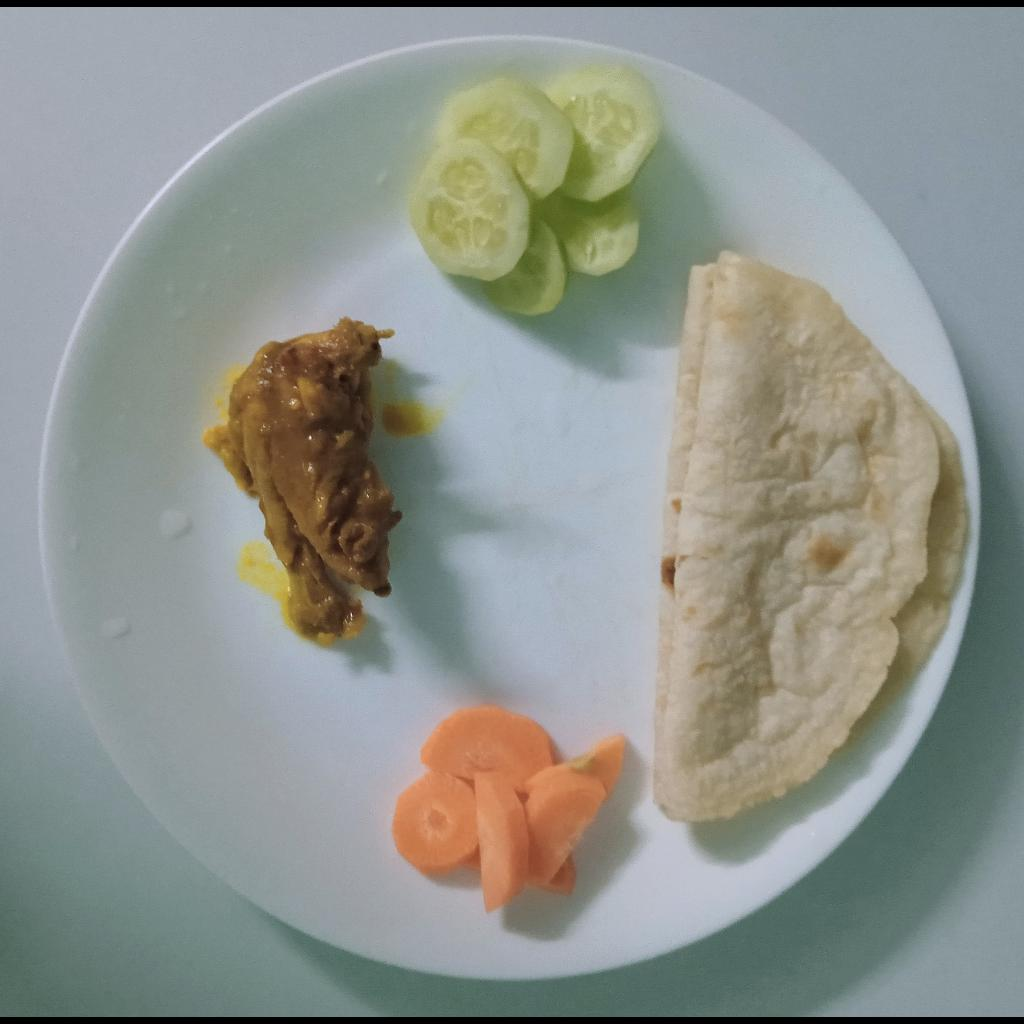carrot: (390, 703, 622, 918)
chicken: (201, 315, 406, 638)
cucumber: (404, 58, 666, 319)
ruti: (651, 249, 975, 823)
